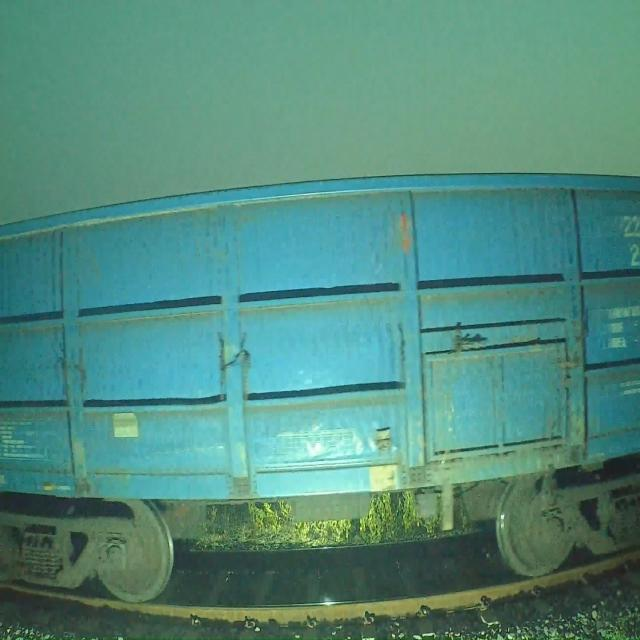WAgon-uic: (0, 170, 638, 602)
